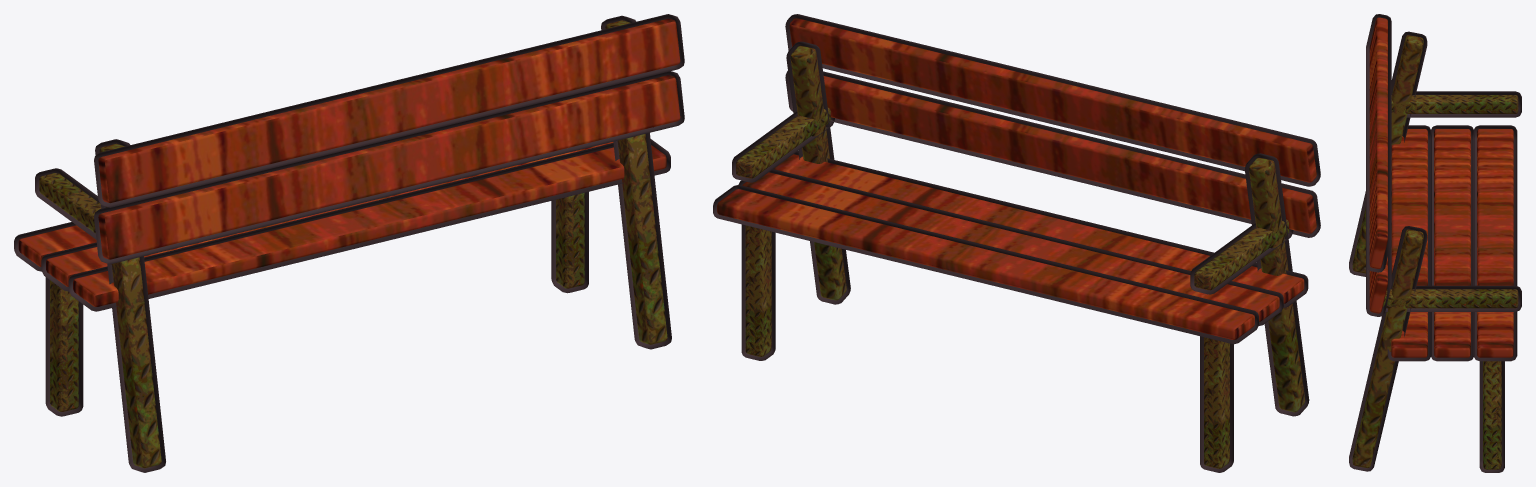
The model's file is panchina_legno.glb.
3 renders of one model, left to right at view 1: azimuth 30°, elevation 25°; view 2: azimuth 150°, elevation 25°; view 3: azimuth 270°, elevation 25°, orthographic. The views are drawn at different scales.
Parts seen in each view (by area): view 1: Cube.057, Cube.056, Cube.053, Cube.059, Cube.062, Cube.058, Cube.061, Cube.054, Cube.060, Cube.055; view 2: Cube.057, Cube.056, Cube.055, Cube.054, Cube.053, Cube.059, Cube.062, Cube.061, Cube.058, Cube.060, Cube.063; view 3: Cube.055, Cube.054, Cube.053, Cube.057, Cube.062, Cube.059, Cube.063, Cube.060, Cube.061, Cube.056.
Boxes of the visible parts, left/top/right/bottom form: Cube.057: left=94, top=14, right=684, bottom=207; Cube.056: left=94, top=71, right=684, bottom=264; Cube.053: left=68, top=139, right=670, bottom=311; Cube.059: left=95, top=139, right=165, bottom=472; Cube.062: left=601, top=15, right=671, bottom=349; Cube.058: left=45, top=277, right=83, bottom=416; Cube.061: left=551, top=192, right=588, bottom=293; Cube.054: left=41, top=142, right=613, bottom=291; Cube.060: left=35, top=168, right=101, bottom=239; Cube.055: left=14, top=222, right=96, bottom=271; Cube.057: left=785, top=14, right=1320, bottom=186; Cube.056: left=785, top=71, right=1320, bottom=237; Cube.055: left=713, top=185, right=1258, bottom=344; Cube.054: left=738, top=169, right=1283, bottom=325; Cube.053: left=773, top=151, right=1308, bottom=307; Cube.059: left=1245, top=153, right=1309, bottom=416; Cube.062: left=786, top=41, right=850, bottom=304; Cube.061: left=741, top=224, right=775, bottom=360; Cube.058: left=1200, top=336, right=1233, bottom=472; Cube.060: left=1190, top=219, right=1293, bottom=294; Cube.063: left=732, top=107, right=834, bottom=182; Cube.055: left=1473, top=125, right=1517, bottom=361; Cube.054: left=1430, top=125, right=1474, bottom=361; Cube.053: left=1387, top=125, right=1431, bottom=361; Cube.057: left=1366, top=14, right=1391, bottom=272; Cube.062: left=1349, top=226, right=1427, bottom=471; Cube.059: left=1349, top=31, right=1427, bottom=276; Cube.063: left=1383, top=285, right=1521, bottom=311; Cube.060: left=1391, top=91, right=1521, bottom=117; Cube.061: left=1479, top=361, right=1504, bottom=472; Cube.056: left=1366, top=241, right=1391, bottom=316.
Bounding box in the file's own units: 1.72 × 0.8992 × 0.564.
Materials: 3 (2 with a texture image).
